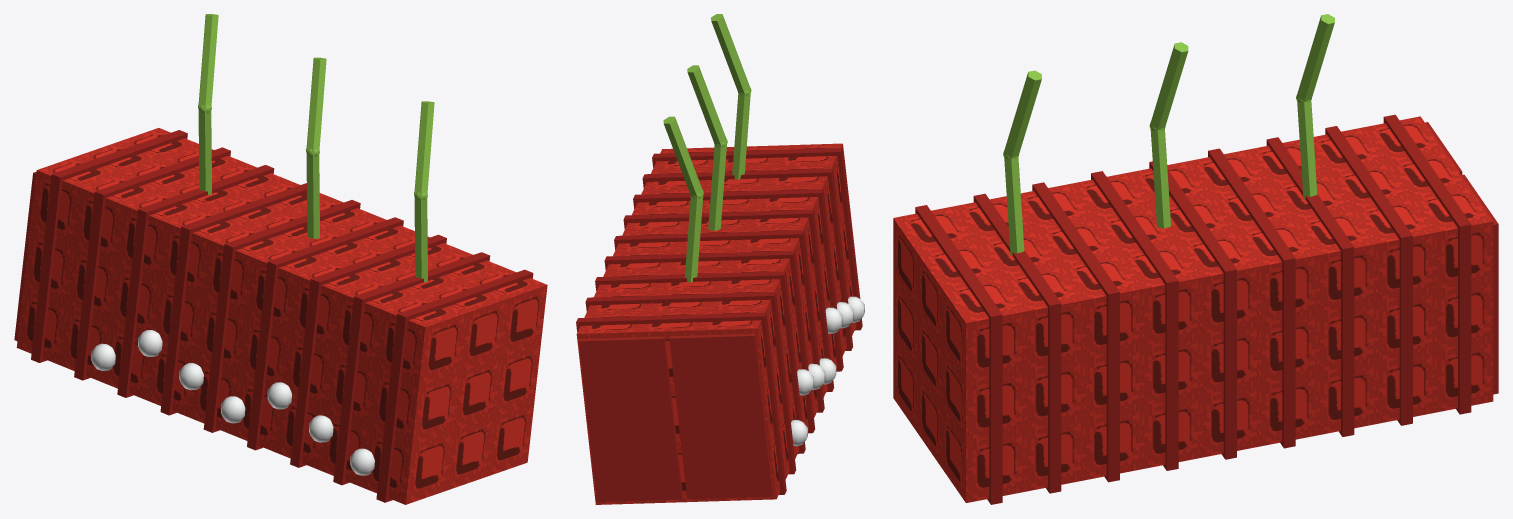
Rendered from SunkenContainer.glb.
3 renders of one model, left to right at view 1: azimuth 30°, elevation 25°; view 2: azimuth 150°, elevation 25°; view 3: azimuth 270°, elevation 25°, orthographic. The views are drawn at different scales.
Parts seen in each view (by area): view 1: SunkenContainer; view 2: SunkenContainer; view 3: SunkenContainer.
Part boxes in pixels (<box>): SunkenContainer: <box>14,14,547,504</box>; SunkenContainer: <box>576,14,864,504</box>; SunkenContainer: <box>893,14,1498,504</box>.
Bounding box in the file's own units: 6.64 × 7.23 × 9.71.
Materials: 1 (1 with a texture image).
